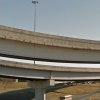Bridge: (1, 14, 98, 89)
